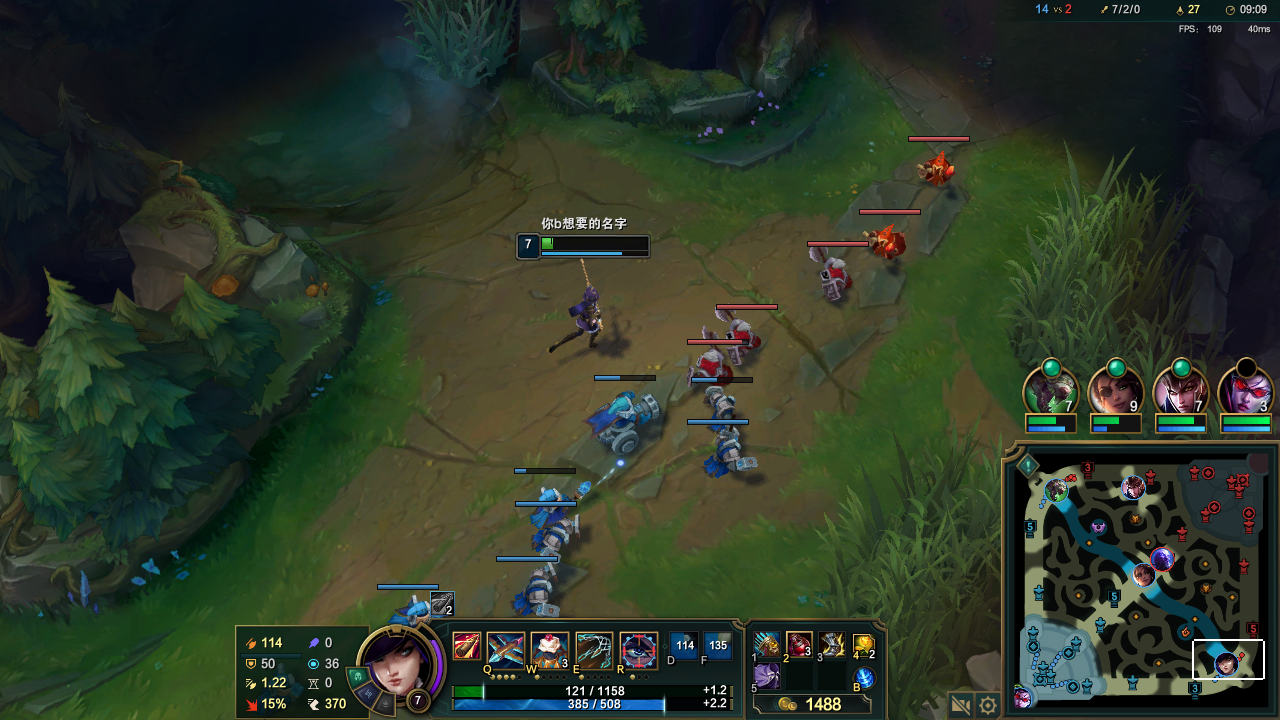DFXB: (719, 320, 763, 357), (813, 255, 850, 296), (691, 345, 731, 382), (915, 156, 958, 186), (870, 227, 899, 257)
WFXB: (592, 391, 666, 466), (699, 434, 756, 477), (706, 385, 741, 423), (524, 571, 556, 612), (537, 523, 572, 555), (531, 493, 568, 521), (399, 600, 430, 621)
